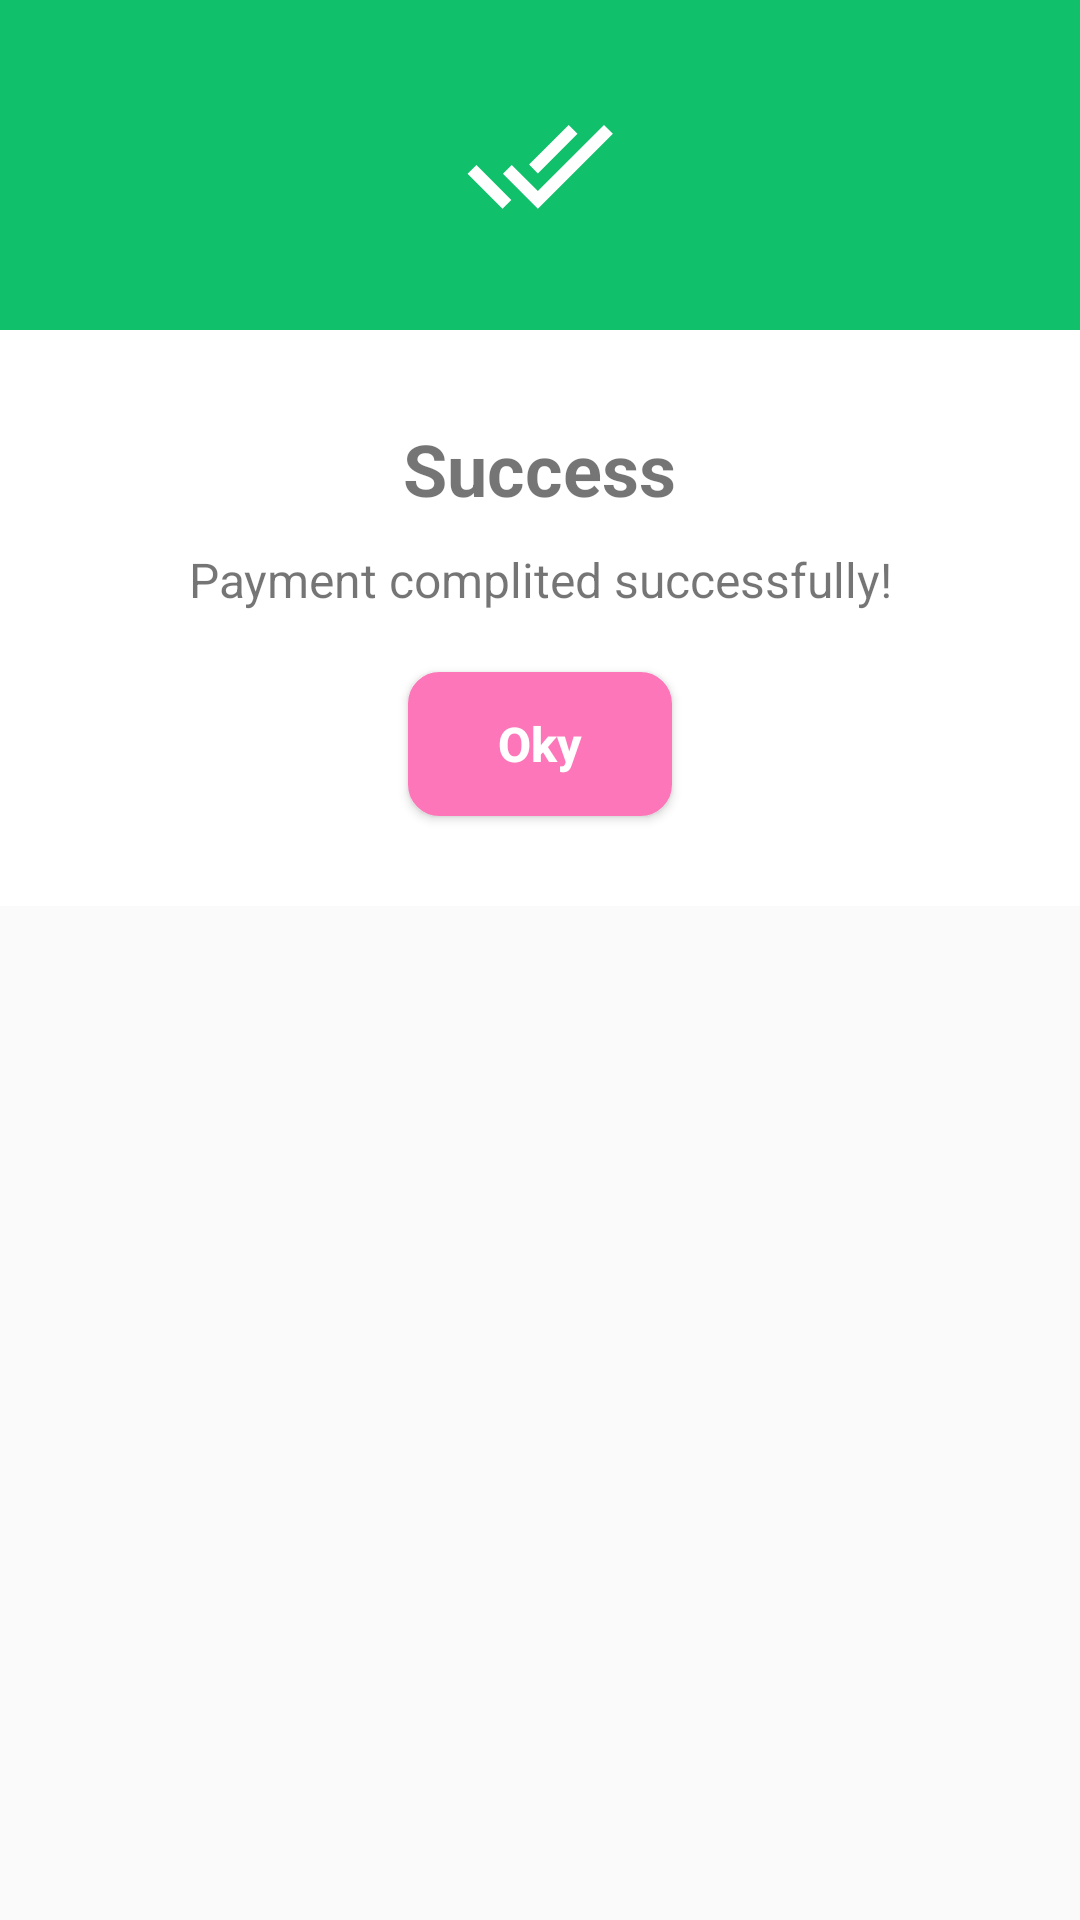

Where to tap for icons on this 1080px×1920px app screen, as point (x, y):
done all: point (540, 167)
